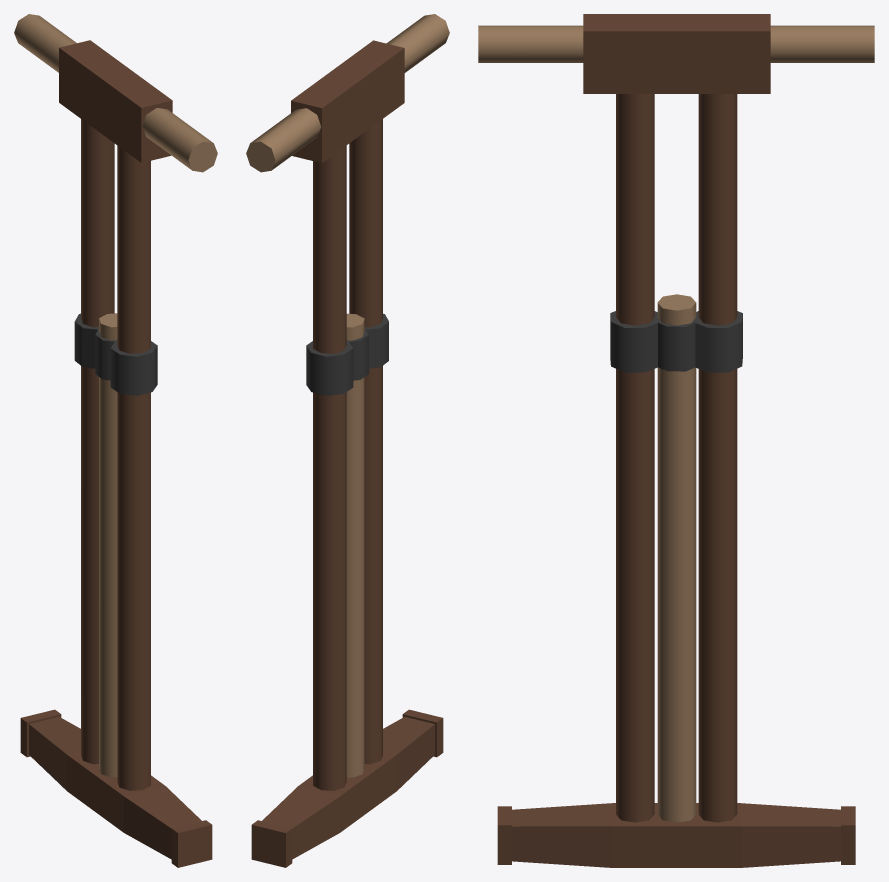
Rendered from Upper Part Jumper #2.fbx.
3 views of the same model, side by side, from view 1: azimuth 30°, elevation 25°; view 2: azimuth 150°, elevation 25°; view 3: azimuth 270°, elevation 25° (orthographic). The views are drawn at different scales.
Parts seen in each view (by area): view 1: Upper Part 1; view 2: Upper Part 1; view 3: Upper Part 1.
Boxes of the visible parts, x1,y1,x2,y2 form: Upper Part 1: (14,14,217,867); Upper Part 1: (246,14,449,867); Upper Part 1: (478,14,874,867).
Size of the model in its own units: 15.25 by 255 by 110.
